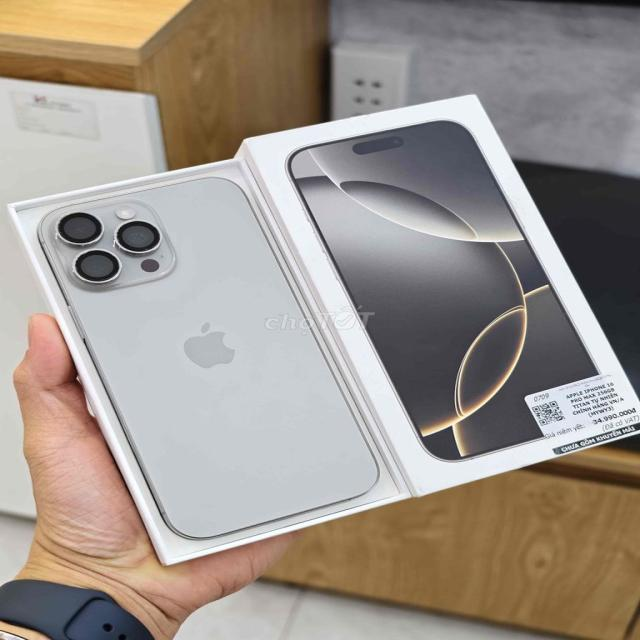scratch: (41, 219, 64, 246), (105, 232, 126, 257), (78, 242, 90, 252), (70, 264, 76, 276)
